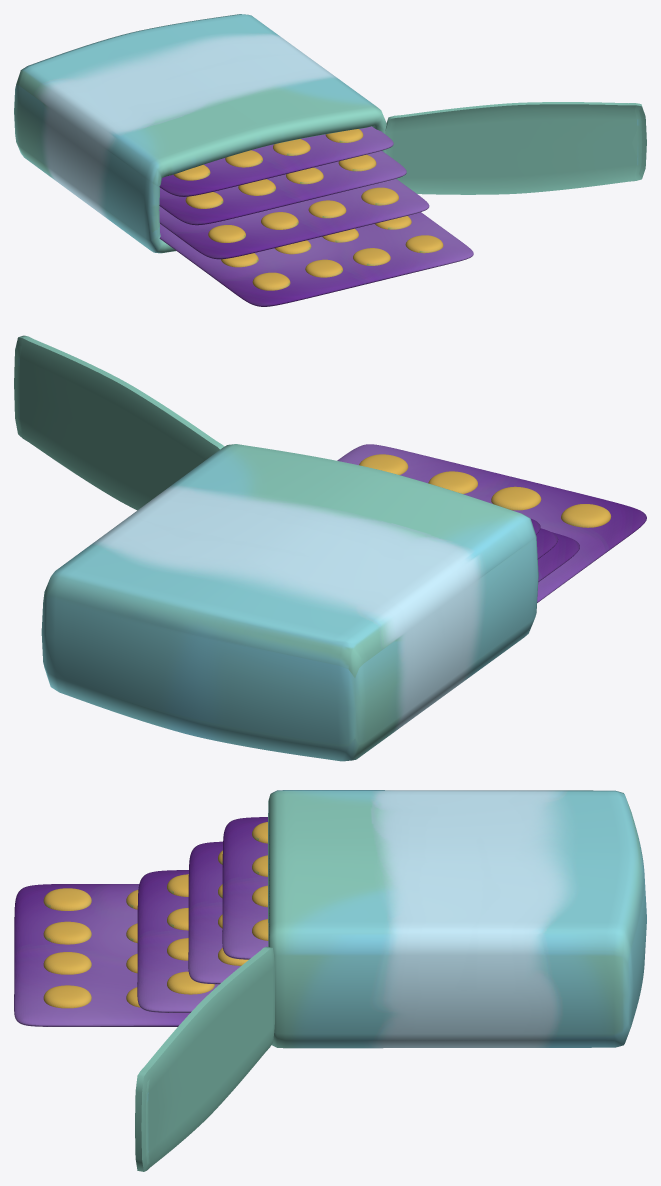
Rendered from Collectible-medicine.fbx.
The picture shows the model from 3 angles, top to bottom: view 1: azimuth 30°, elevation 25°; view 2: azimuth 150°, elevation 25°; view 3: azimuth 270°, elevation 25°; orthographic projection. The views are drawn at different scales.
Visible parts, largest first — view 1: box, pills.002, pills.003, pills, pills.001; view 2: box, pills.002, pills.003; view 3: box, pills.002, pills.003, pills.001, pills.
Boxes of the visible parts, x1=… form: box: x1=14, y1=14, x2=646, y2=253; pills.002: x1=159, y1=212, x2=473, y2=306; pills.003: x1=159, y1=179, x2=429, y2=259; pills: x1=159, y1=150, x2=406, y2=225; pills.001: x1=159, y1=126, x2=393, y2=196; box: x1=14, y1=335, x2=538, y2=761; pills.002: x1=337, y1=444, x2=646, y2=602; pills.003: x1=538, y1=532, x2=579, y2=581; box: x1=135, y1=790, x2=646, y2=1171; pills.002: x1=14, y1=884, x2=189, y2=1026; pills.003: x1=137, y1=870, x2=219, y2=1012; pills.001: x1=222, y1=817, x2=268, y2=959; pills: x1=188, y1=841, x2=248, y2=984.
Bounding box in the file's own units: 369 × 83.51 × 347.
Materials: 2 (2 with a texture image).
